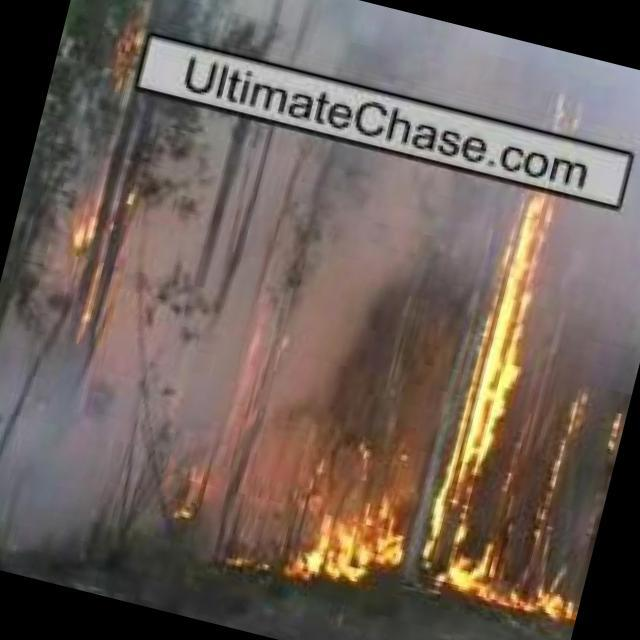Fire: (424, 97, 589, 600), (279, 441, 423, 604), (32, 164, 151, 341), (532, 379, 592, 554), (474, 554, 587, 626), (175, 444, 229, 519), (109, 23, 153, 90), (601, 418, 626, 457)
